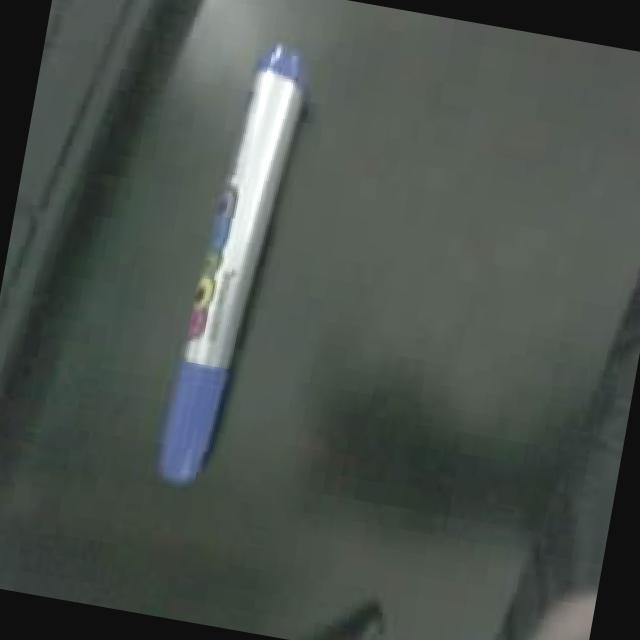board-marker: (160, 45, 302, 480)
